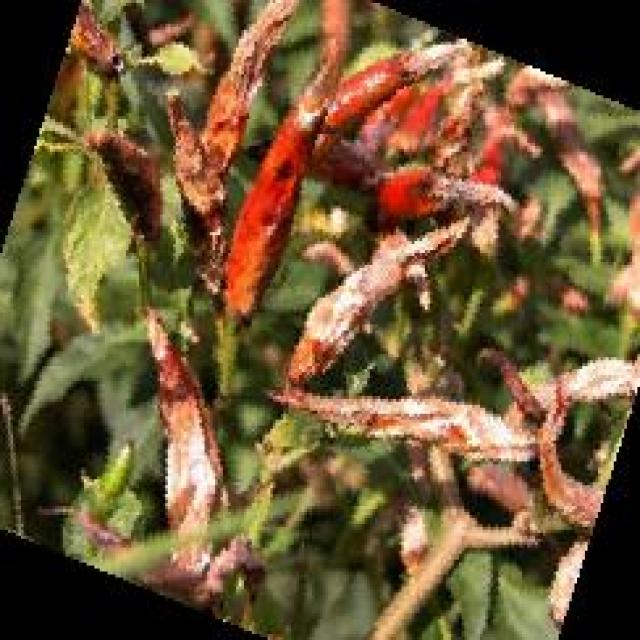Moko: (271, 363, 530, 499), (134, 291, 224, 573)
